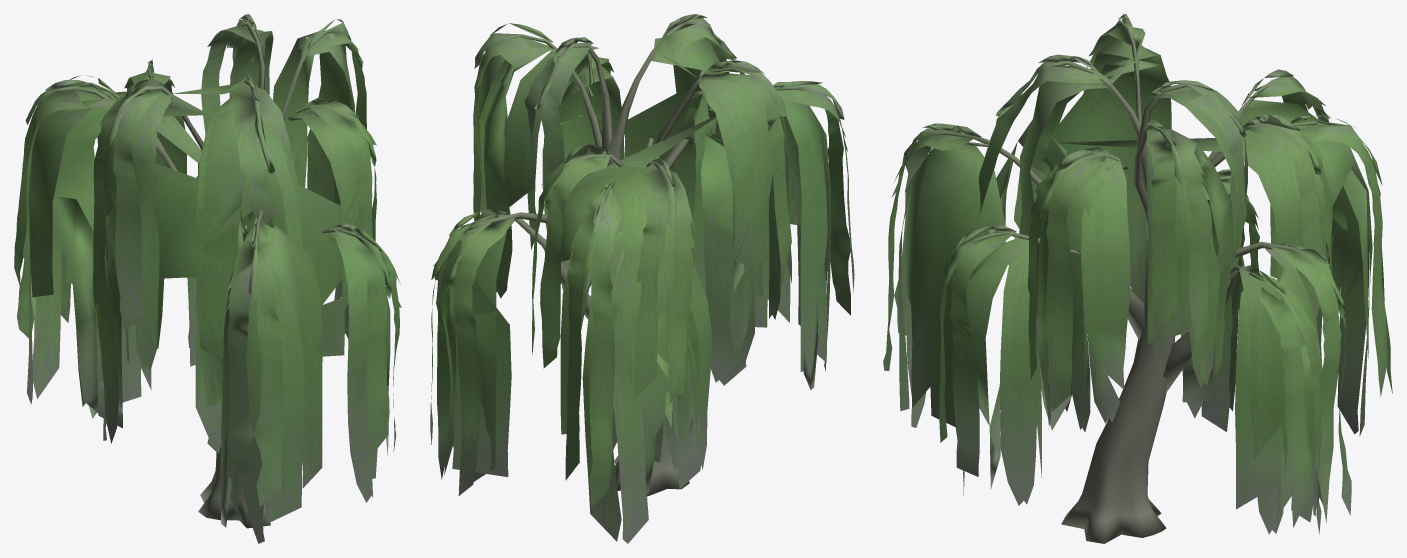
3 views of the same model, side by side, from view 1: azimuth 30°, elevation 25°; view 2: azimuth 150°, elevation 25°; view 3: azimuth 270°, elevation 25° (orthographic). The views are drawn at different scales.
Visible parts, largest first — view 1: tripo_node_edbe36e3-ec68-47da-b111-4fd8744df9b9; view 2: tripo_node_edbe36e3-ec68-47da-b111-4fd8744df9b9; view 3: tripo_node_edbe36e3-ec68-47da-b111-4fd8744df9b9.
Part boxes in pixels (left/top/right/bottom): tripo_node_edbe36e3-ec68-47da-b111-4fd8744df9b9: left=14, top=14, right=401, bottom=543; tripo_node_edbe36e3-ec68-47da-b111-4fd8744df9b9: left=430, top=14, right=854, bottom=543; tripo_node_edbe36e3-ec68-47da-b111-4fd8744df9b9: left=883, top=14, right=1392, bottom=543.
Size of the model in its own units: 0.6621 by 0.998 by 0.9902.
1 material, 1 textured.
